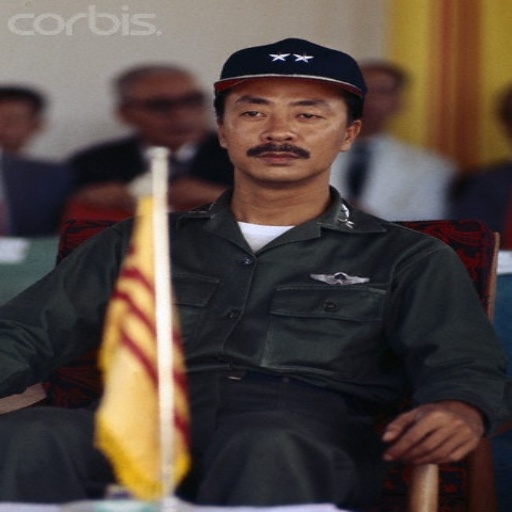hand: (372, 389, 491, 483), (70, 182, 138, 210), (171, 179, 216, 208)
